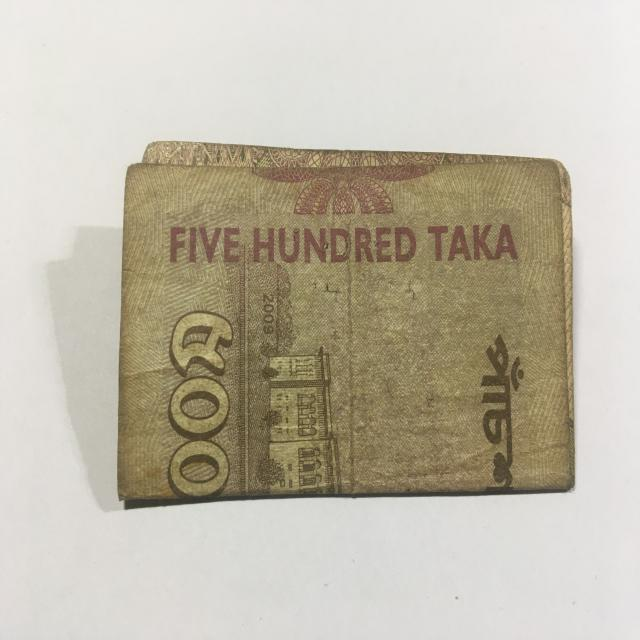Taka: (115, 120, 578, 514)
